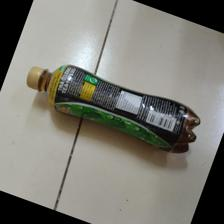Olong: (25, 67, 205, 155)
